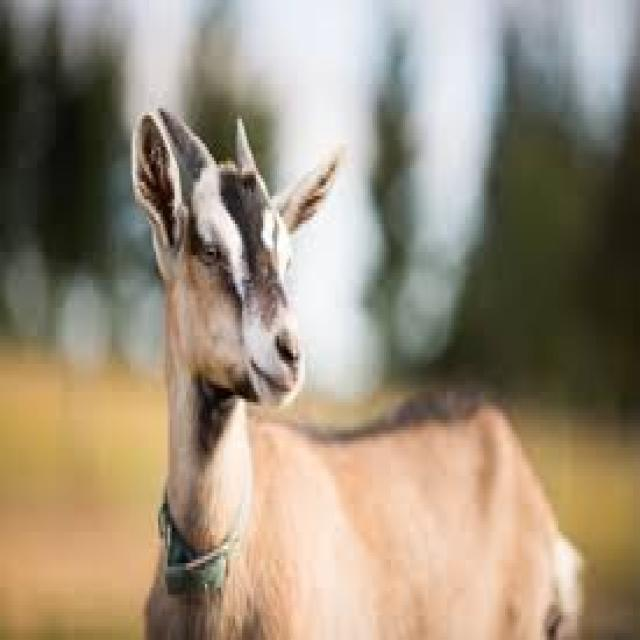Goat: (131, 98, 579, 636)
